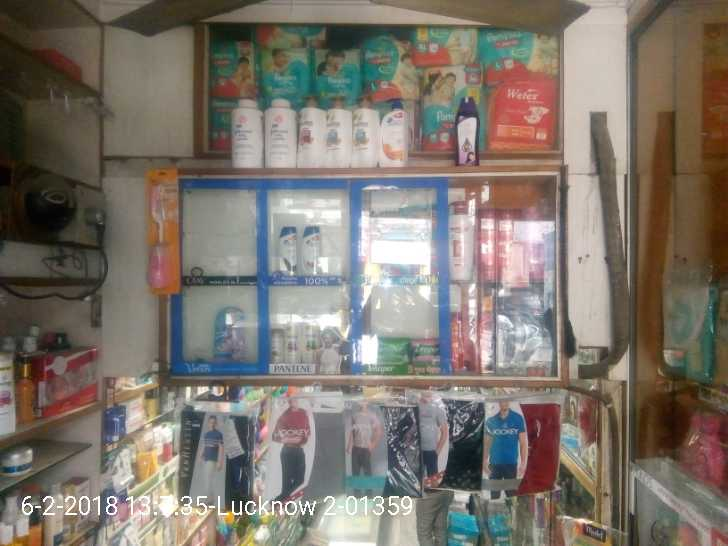venus: (214, 308, 243, 359)
